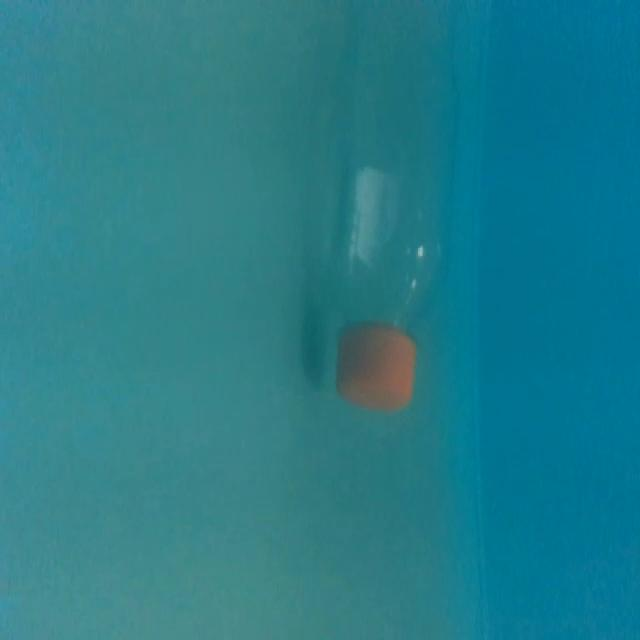plastic bottle: (318, 5, 464, 422)
